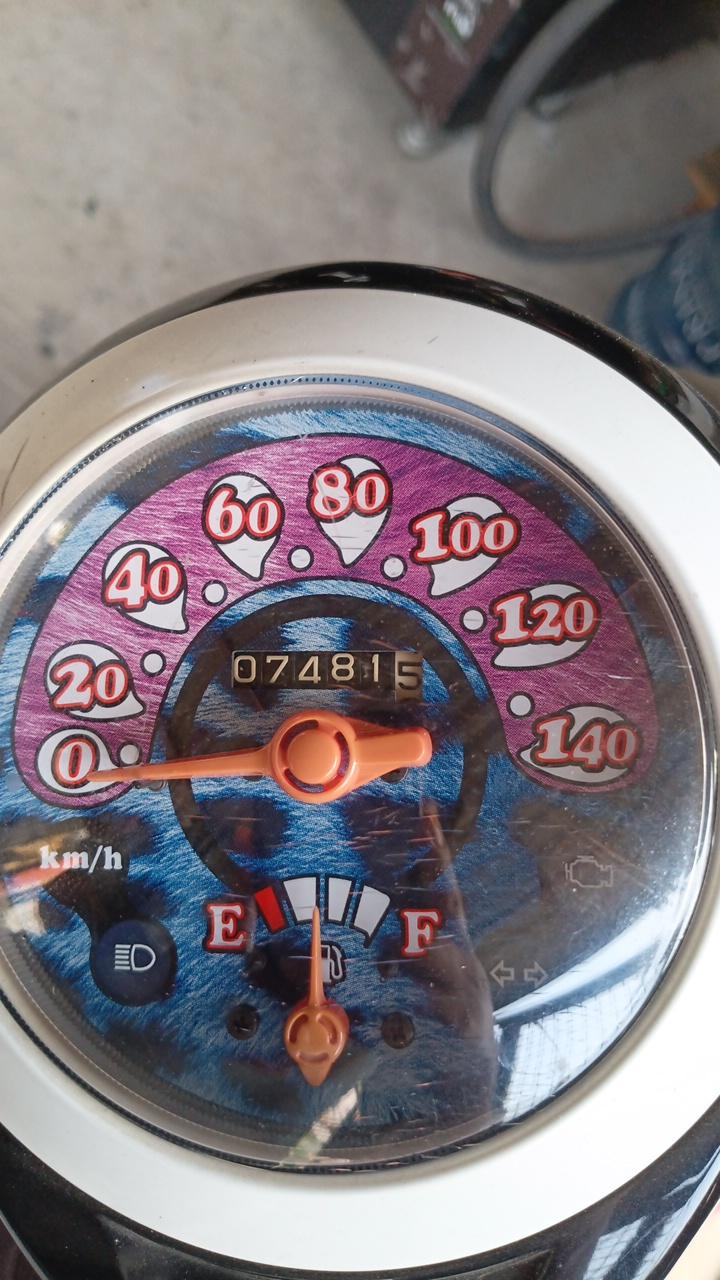0: (233, 656, 257, 683)
1: (371, 653, 381, 684)
4: (298, 655, 321, 685)
5: (397, 658, 422, 691)
7: (265, 654, 289, 684)
8: (332, 653, 354, 682)
odometer: (231, 648, 423, 709)
